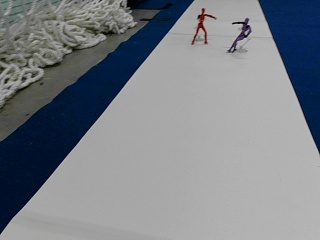pedestrian: (191, 8, 216, 45), (228, 16, 251, 51)
